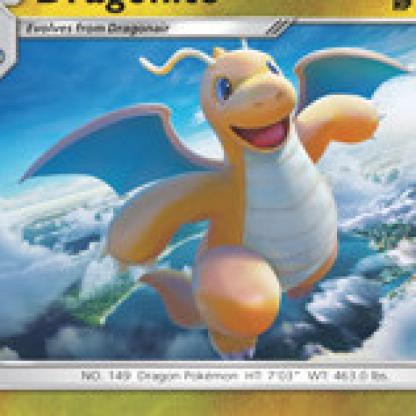Dragonite: (51, 43, 414, 354)
